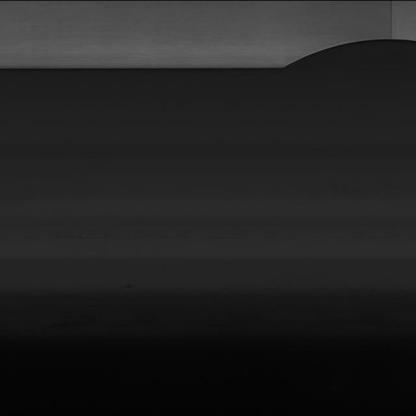crescent_gap: (275, 30, 416, 74)
